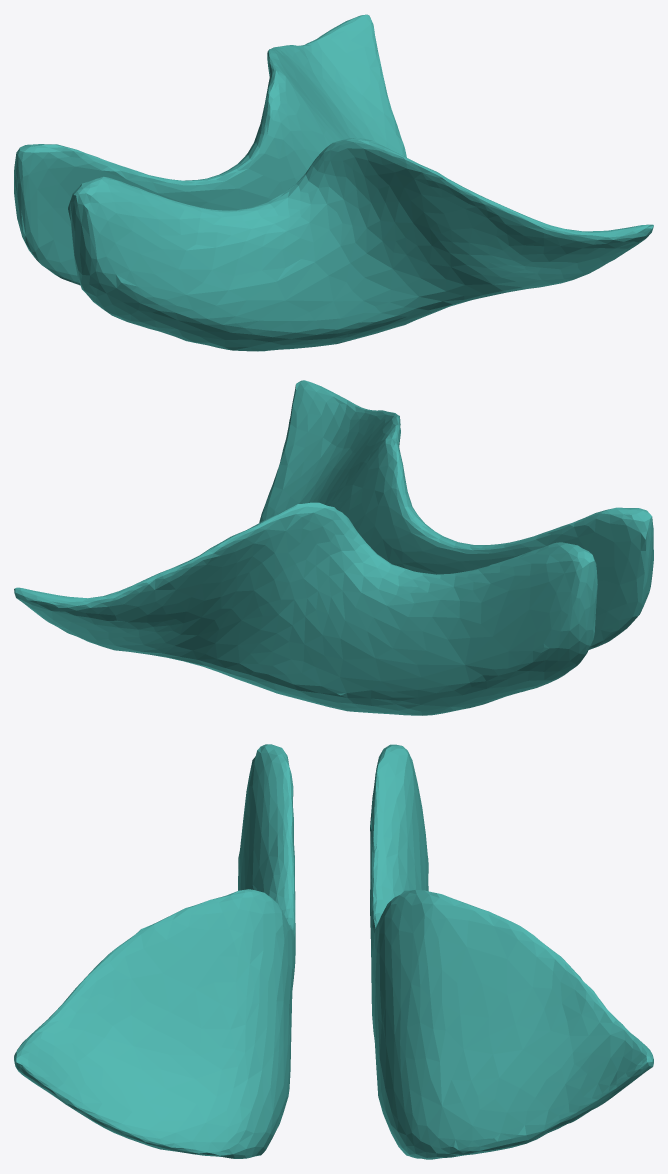
The picture shows the model from 3 angles, top to bottom: view 1: azimuth 30°, elevation 25°; view 2: azimuth 150°, elevation 25°; view 3: azimuth 270°, elevation 25°; orthographic projection. The views are drawn at different scales.
Parts seen in each view (by area): view 1: 687.obj; view 2: 687.obj; view 3: 687.obj.
Boxes of the visible parts, x1,y1,x2,y2 form: 687.obj: [14, 14, 653, 351]; 687.obj: [14, 380, 653, 715]; 687.obj: [14, 744, 653, 1159].
Bounding box in the file's own units: 3215 × 1409 × 3441.
